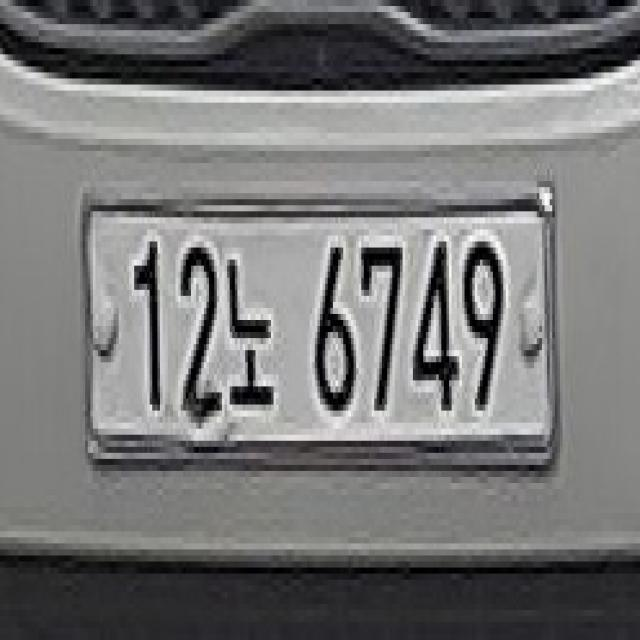1: (126, 223, 173, 435)
2: (173, 236, 224, 428)
4: (410, 217, 464, 435)
6: (307, 236, 364, 428)
7: (359, 236, 405, 428)
9: (459, 230, 514, 422)
license_plate: (77, 175, 560, 489)
no: (220, 248, 282, 434)
